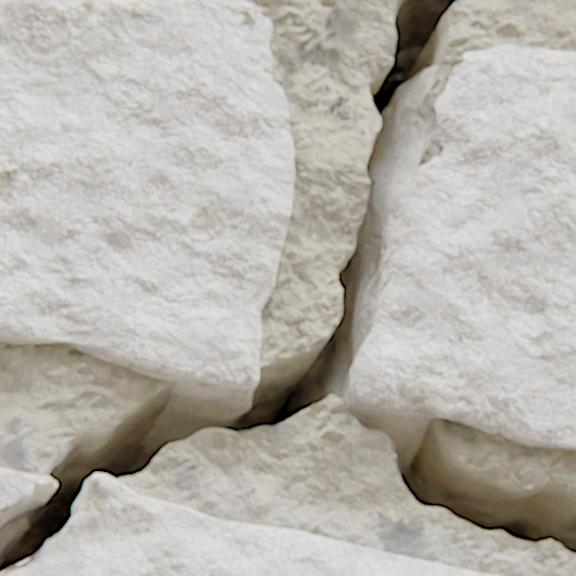brick: (0, 0, 294, 393), (349, 45, 575, 449)
broken_brick: (0, 473, 501, 575), (0, 467, 57, 513)
crack: (0, 0, 575, 573)
